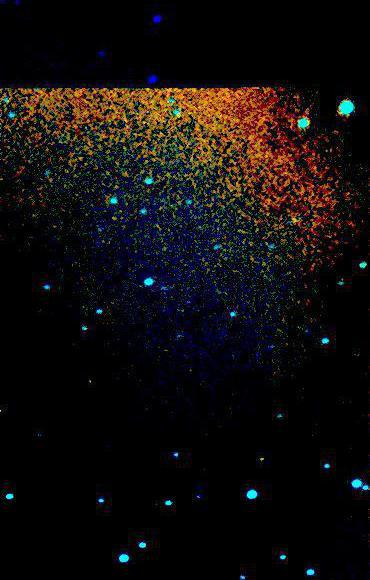star: (247, 444, 277, 474)
